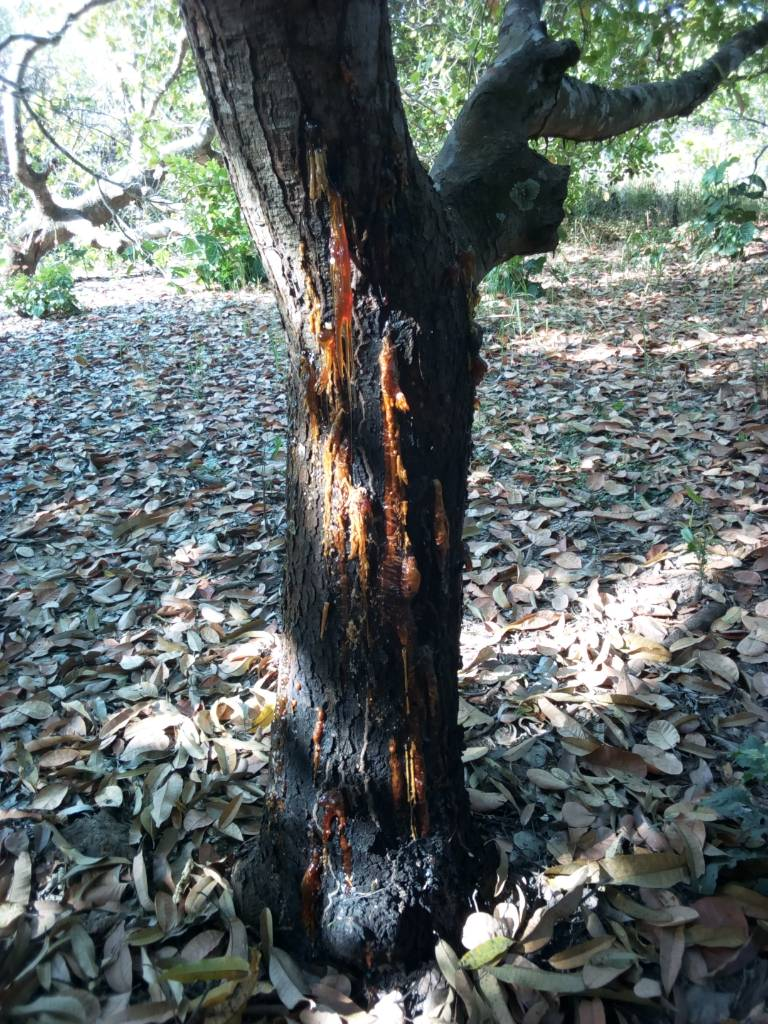Gommose: (297, 163, 463, 899)
